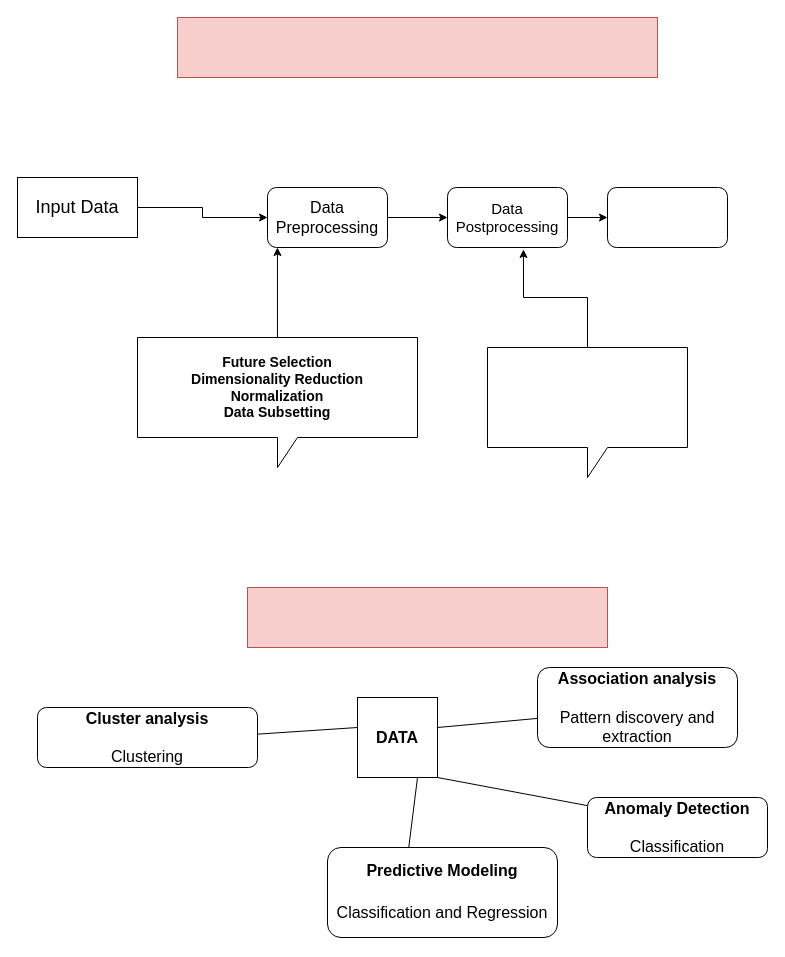
This 785x957 diagram has some shape labels left out. The shapes that lost their labels are listed below. From the top down, each one's box as (x1, y1, x2, y2) in pixels, then its label:
(176, 16, 658, 78): THE PROCESS OF KNOWLEDGE DISCOVERY IN DATABASES
(606, 186, 728, 248): Information
(486, 346, 688, 478): Filtering Patterns Visualization Pattern interpretation
(246, 586, 608, 648): Four of the core data mining tasks
